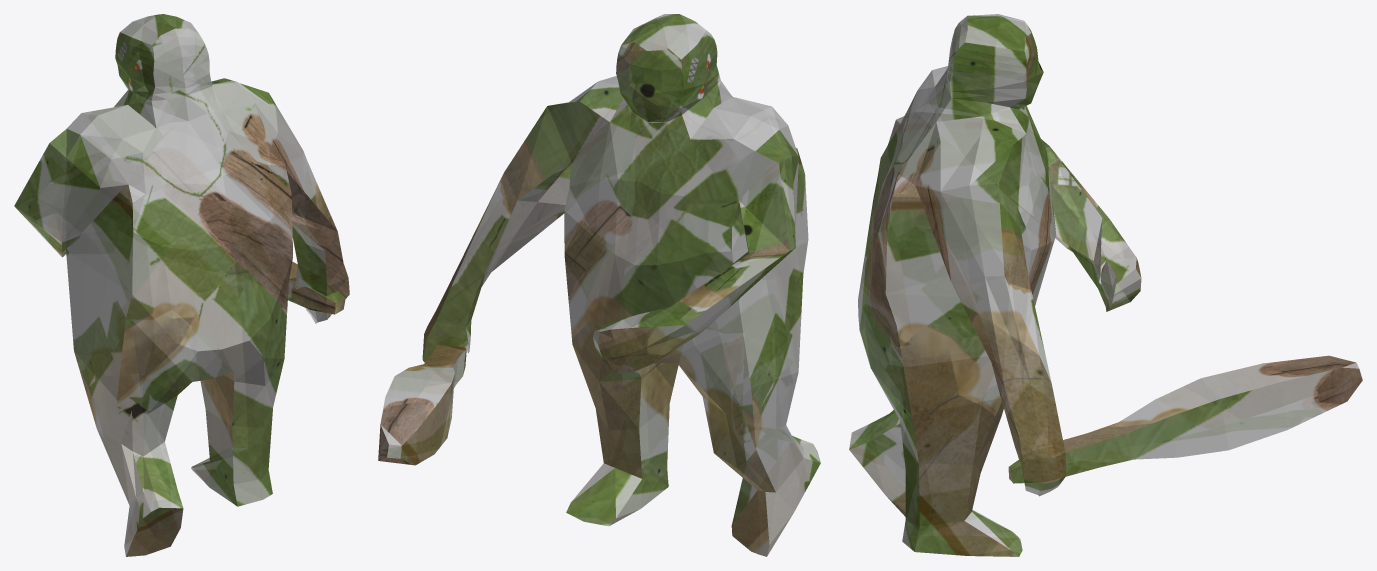
The model's file is Enemigo224.obj.
The picture shows the model from 3 angles, left to right: view 1: azimuth 30°, elevation 25°; view 2: azimuth 150°, elevation 25°; view 3: azimuth 270°, elevation 25°; orthographic projection. The views are drawn at different scales.
Visible parts, largest first — view 1: Cube; view 2: Cube; view 3: Cube.
Boxes of the visible parts, x1,y1,x2,y2 form: Cube: (14, 14, 349, 556); Cube: (378, 14, 820, 556); Cube: (849, 14, 1362, 556).
Size of the model in its own units: 1.97 by 2.85 by 2.48.
